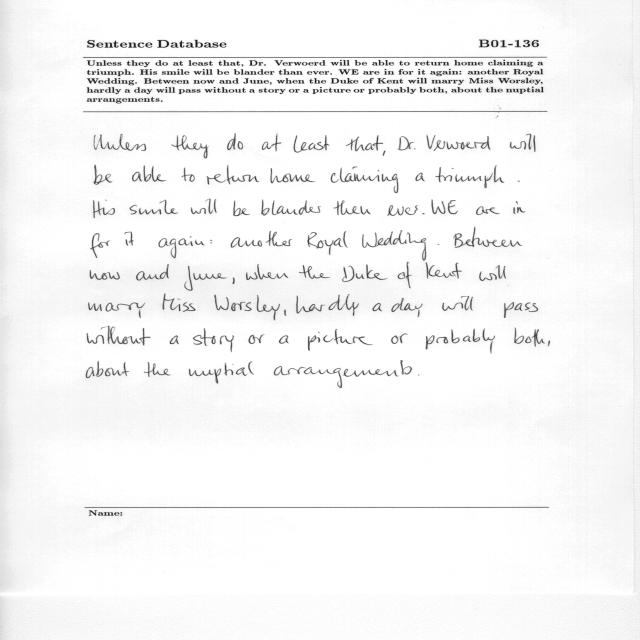word: (274, 360, 412, 388), (362, 230, 426, 261), (426, 328, 495, 354), (331, 167, 398, 193), (214, 295, 280, 321), (435, 165, 504, 188), (453, 227, 522, 248), (308, 329, 373, 351), (189, 362, 254, 384), (296, 294, 359, 316), (87, 326, 151, 345), (184, 266, 227, 291), (159, 236, 205, 258), (231, 231, 293, 247), (207, 166, 259, 185), (307, 231, 348, 255), (193, 328, 234, 352), (261, 200, 321, 216), (89, 302, 145, 318), (94, 134, 146, 151), (172, 135, 208, 159), (434, 136, 491, 151), (346, 135, 386, 156), (342, 265, 387, 282), (87, 361, 130, 378), (270, 169, 315, 184), (130, 200, 178, 214), (246, 264, 288, 280), (294, 135, 330, 153), (426, 262, 462, 279), (391, 298, 423, 317), (163, 294, 196, 312), (514, 328, 545, 347), (132, 165, 166, 182), (136, 264, 169, 281), (334, 201, 371, 216), (504, 302, 538, 318), (510, 133, 535, 152), (91, 233, 110, 258), (442, 296, 473, 311), (299, 265, 330, 279), (479, 265, 506, 281), (431, 200, 458, 215), (144, 362, 171, 377), (93, 200, 115, 218), (191, 199, 217, 214), (398, 262, 412, 288), (94, 165, 112, 185), (262, 134, 281, 152), (387, 205, 418, 216), (414, 135, 436, 149), (90, 270, 120, 280), (227, 134, 243, 150), (233, 201, 250, 216), (398, 137, 414, 151), (476, 206, 500, 215), (181, 168, 195, 182), (391, 333, 408, 344), (513, 201, 526, 214), (249, 334, 265, 344), (124, 232, 134, 246), (279, 335, 289, 344), (170, 336, 179, 345), (415, 173, 425, 181), (373, 303, 383, 311), (232, 277, 235, 284), (285, 309, 287, 316), (548, 340, 550, 347), (210, 240, 213, 244), (422, 213, 425, 215), (518, 181, 520, 182), (438, 244, 439, 245), (418, 375, 419, 376)
